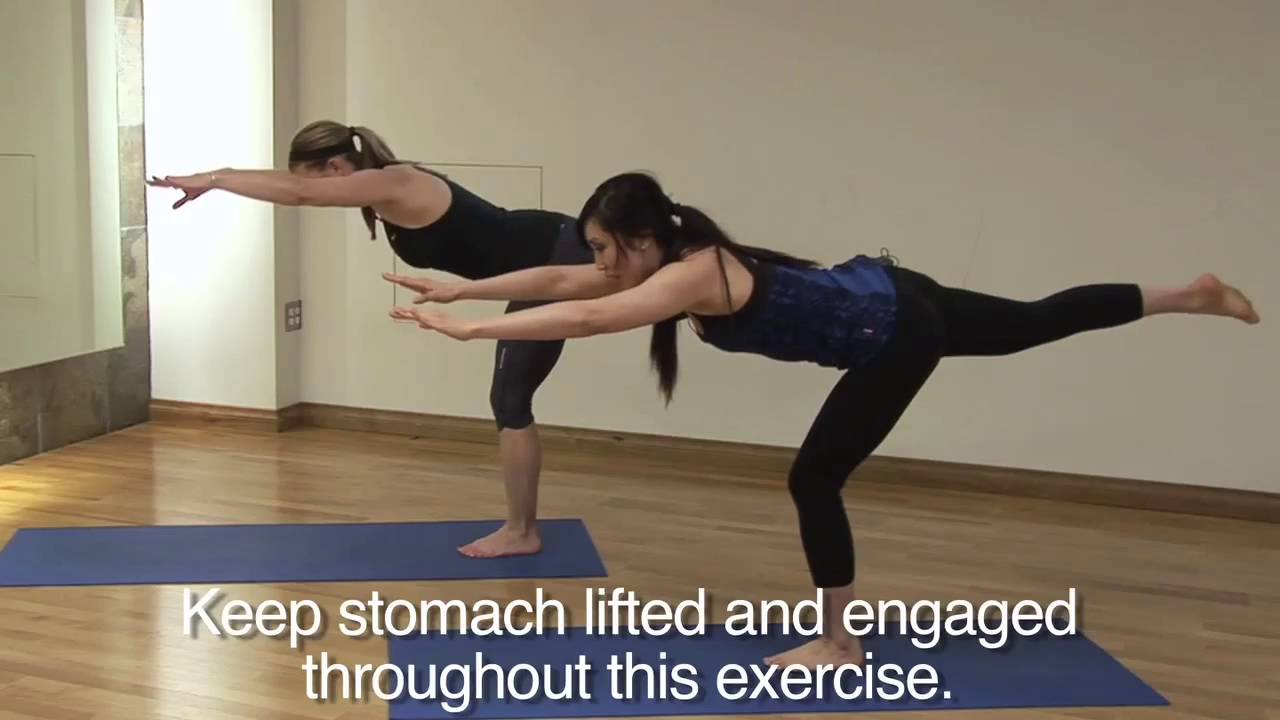person: (383, 173, 1259, 672), (144, 121, 593, 558)
